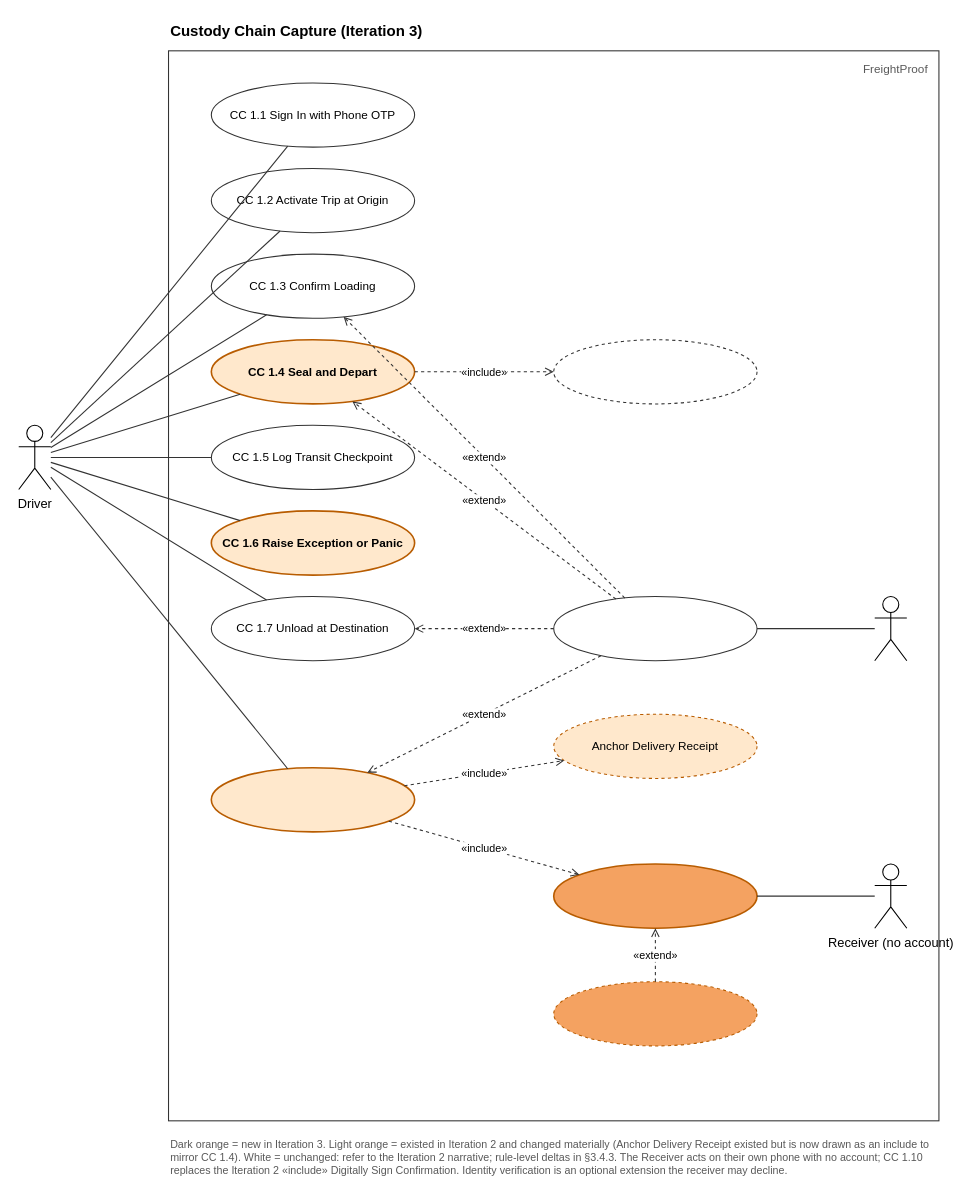
Image size: 972x1195. Some labels were removed from this diagram. Each missing label, with the centre of its shape:
"Anchor Departure Receipt" goes at (655,371).
"CC 1.10 Receive and Acknowledge Delivery" goes at (654,896).
"CC 1.8 Confirm Delivery and Close Trip" goes at (312,799).
"CC 1.9 Override a Blocked Phase" goes at (655,628).
"Dispatcher" goes at (890,628).
"Verify Receiver Identity" goes at (655,1013).
